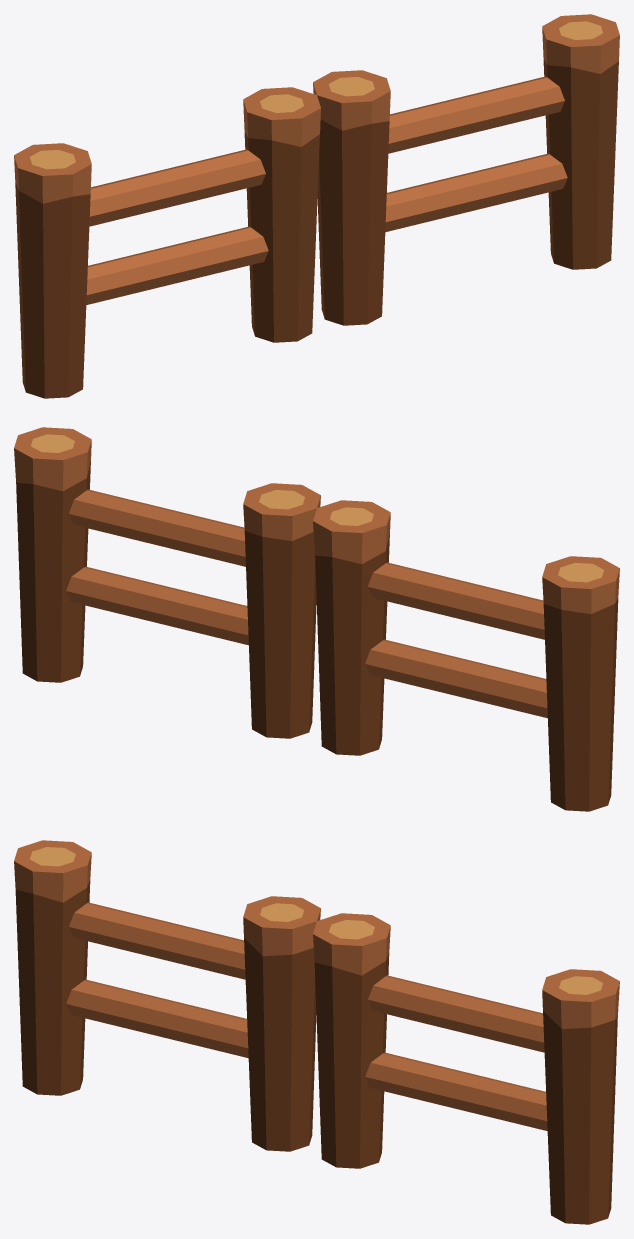
The model's file is 3D_fence.fbx.
The picture shows the model from 3 angles, top to bottom: view 1: azimuth 30°, elevation 25°; view 2: azimuth 150°, elevation 25°; view 3: azimuth 330°, elevation 25°; orthographic projection.
Parts seen in each view (by area): view 1: 3D_fence; view 2: 3D_fence; view 3: 3D_fence.
Part boxes in pixels (<box>): 3D_fence: <box>14,14,619,398</box>; 3D_fence: <box>14,427,619,811</box>; 3D_fence: <box>14,840,619,1224</box>.
Bounding box in the file's own units: 277 × 100 × 32.32.
